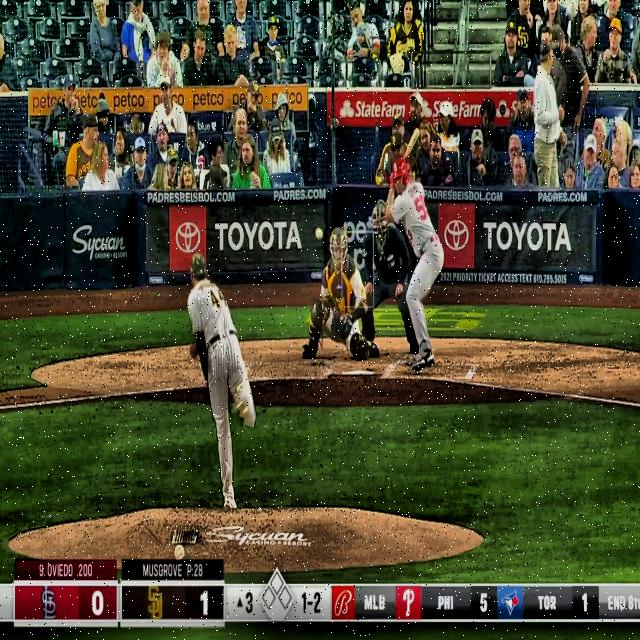baseball: (314, 227, 324, 240)
